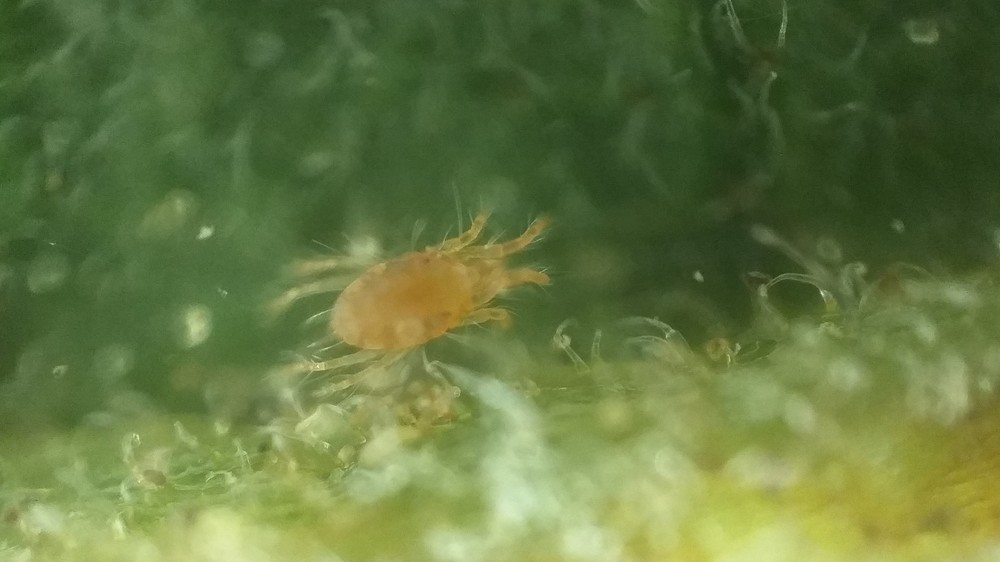Aracnido Rojo: (260, 178, 580, 444)
